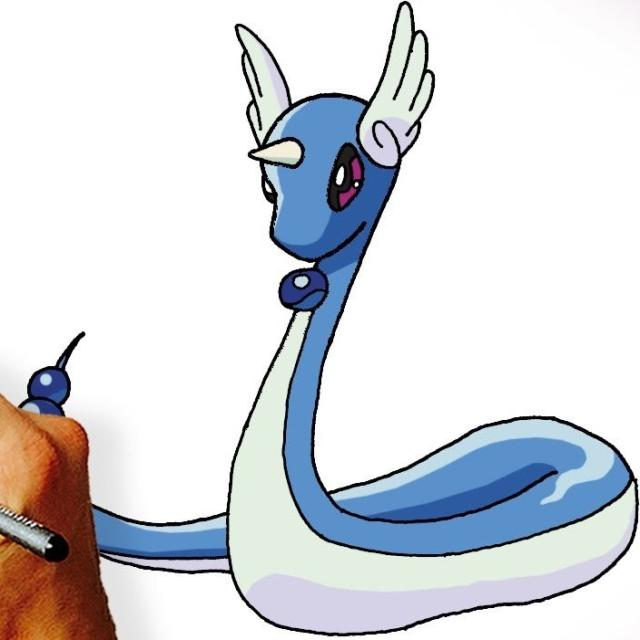Dragonair: (222, 17, 635, 630)
